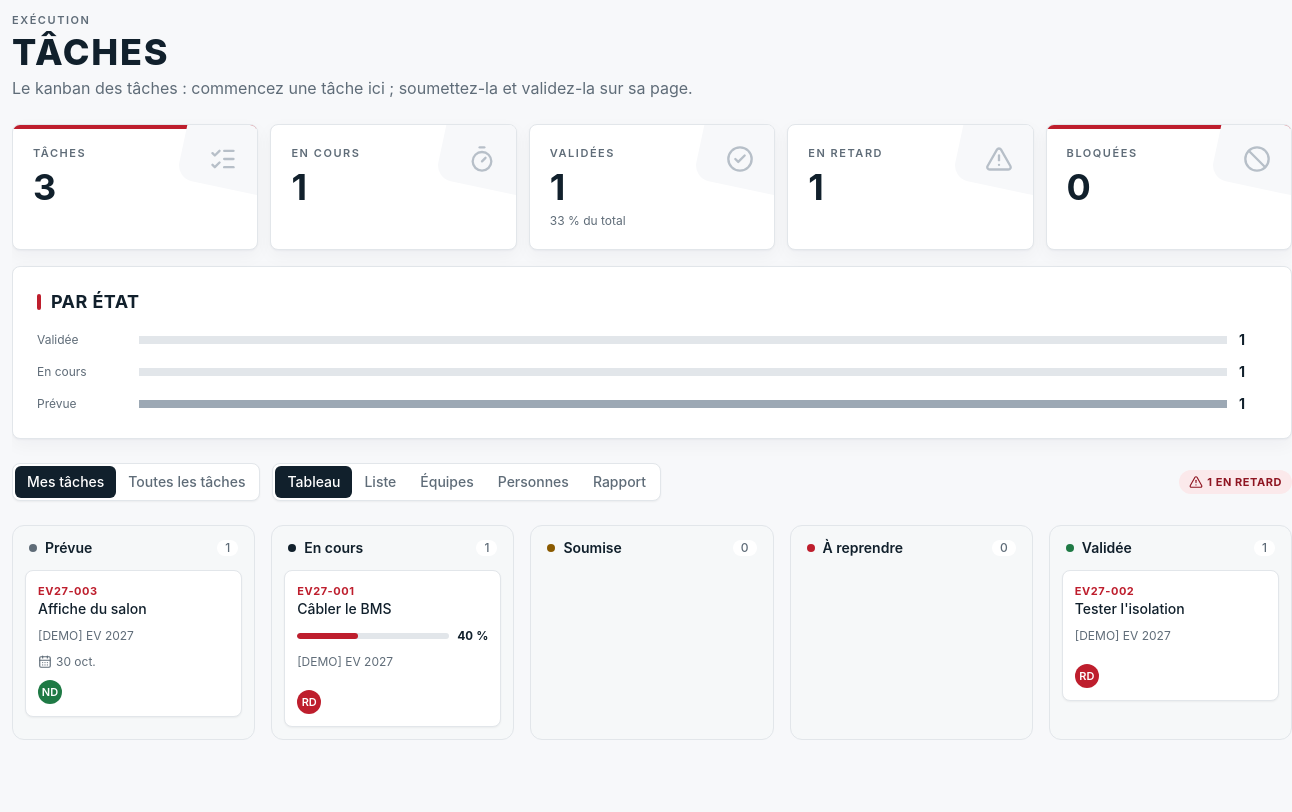
Test case: MyTasks › shows each person's load, then their tasks
Expected: the link "Câbler le BMS" is shown, [297, 600, 392, 616]
Click the button "Personnes": (533, 482) [486, 466, 581, 498]
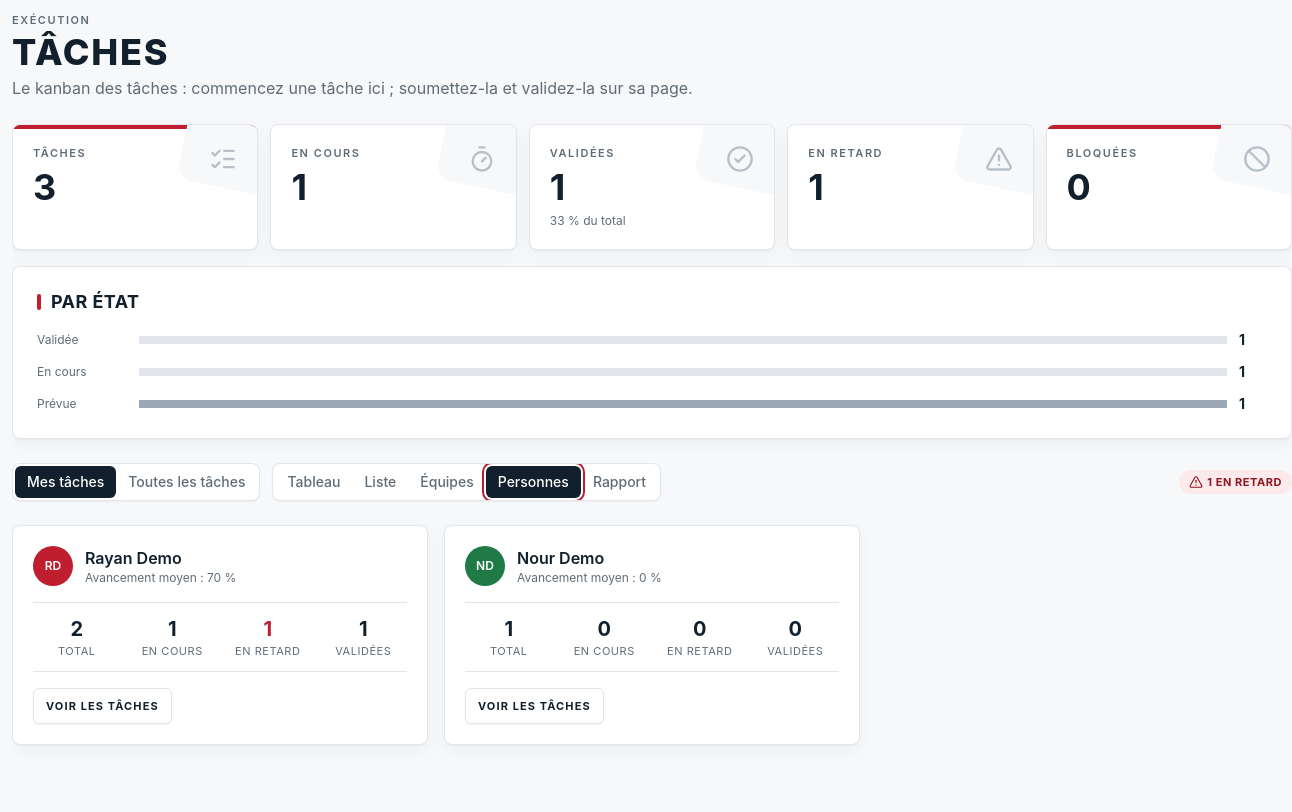
Now the text "Avancement moyen : 70 %" is shown, box [85, 570, 236, 584]
Click the button with aria-label "Voir les tâches de Rayan Demo": (102, 706) [33, 688, 172, 724]
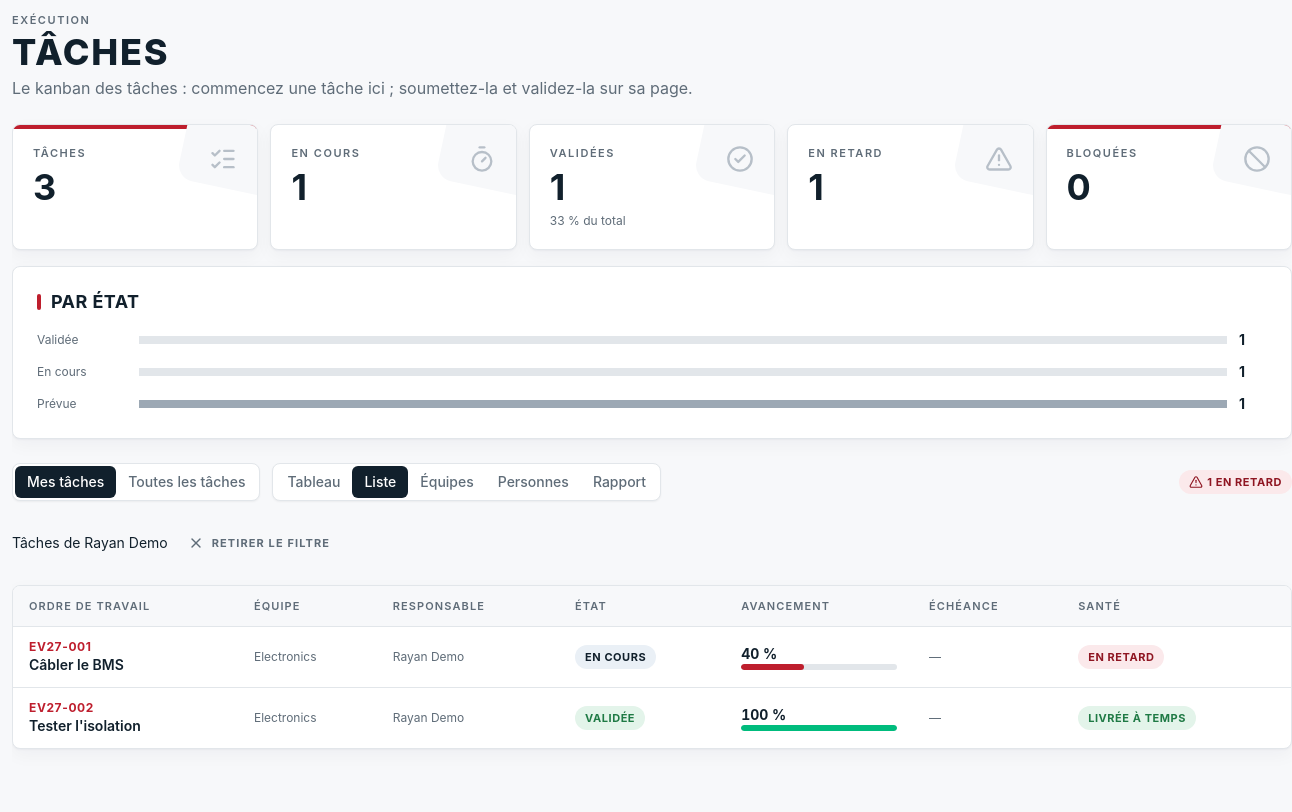
Now the text "Tâches de Rayan Demo" is shown, box [12, 534, 168, 550]
Now the number of links is 2, box [29, 656, 124, 672]; [29, 716, 141, 734]
